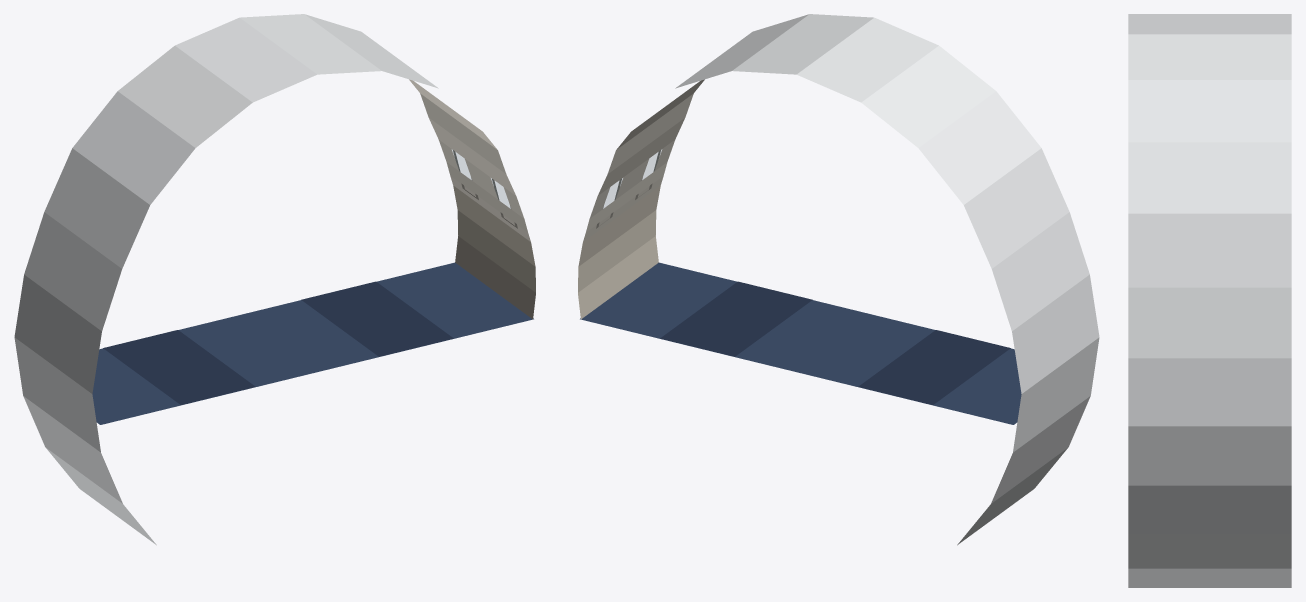
The model's file is ac_section_short.glb.
3 renders of one model, left to right at view 1: azimuth 30°, elevation 25°; view 2: azimuth 150°, elevation 25°; view 3: azimuth 270°, elevation 25°, orthographic. The views are drawn at different scales.
Visible parts, largest first — view 1: ac_section_short; view 2: ac_section_short; view 3: ac_section_short.
Part boxes in pixels (x1,y1,x2,y2): ac_section_short: [14, 14, 535, 545]; ac_section_short: [578, 14, 1099, 545]; ac_section_short: [1128, 14, 1291, 587].
Bounding box in the file's own units: 6 × 6.47 × 1.8.
